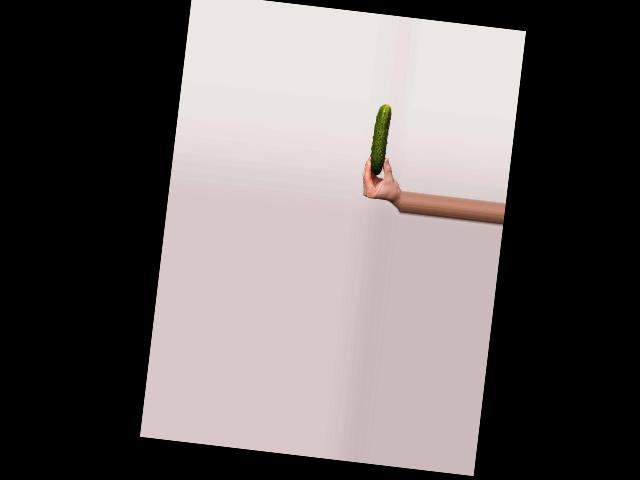cucumber: (368, 103, 391, 175)
